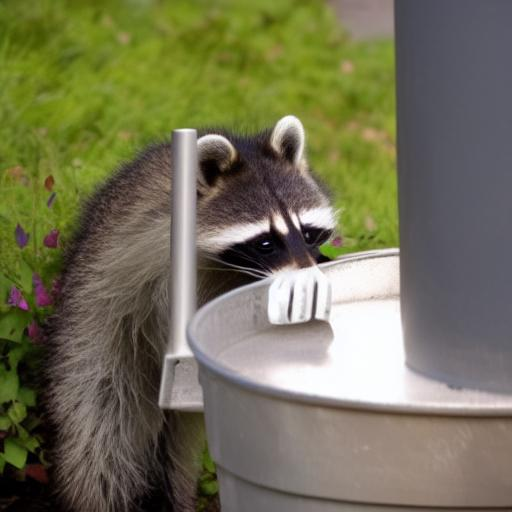raccoon: (23, 107, 349, 512)
